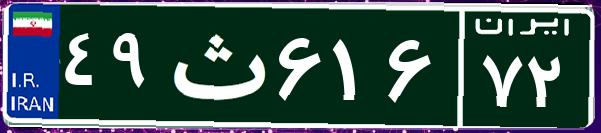1: (330, 28, 385, 110)
2: (525, 38, 570, 115)
4: (57, 26, 110, 107)
6: (385, 28, 445, 110), (273, 28, 330, 110)
7: (475, 38, 525, 113)
9: (110, 28, 158, 105)
ث: (158, 15, 273, 115)
